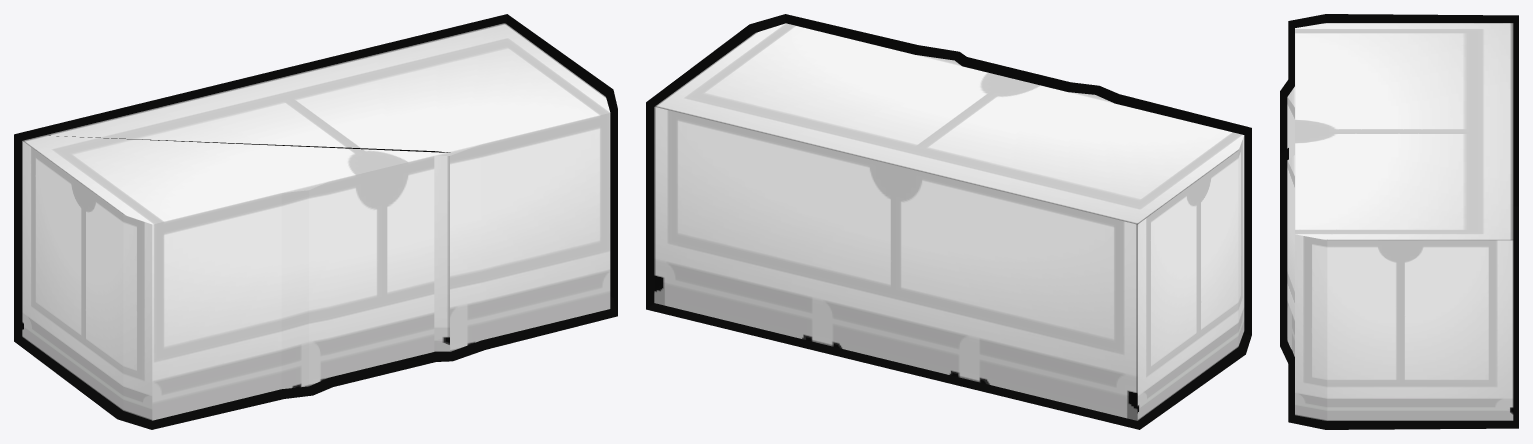
The model's file is Building_Altar_Large_Things_Building_Misc_Altars_Altar2x3.glb.
3 renders of one model, left to right at view 1: azimuth 30°, elevation 25°; view 2: azimuth 150°, elevation 25°; view 3: azimuth 270°, elevation 25°, orthographic. The views are drawn at different scales.
Visible parts, largest first — view 1: Body, Outline; view 2: Body, Outline; view 3: Body, Outline.
Boxes of the visible parts, x1,y1,x2,y2 form: Body: (22,23,610,420); Outline: (14,14,617,429); Body: (654,23,1244,420); Outline: (646,14,1251,429); Body: (1287,23,1513,420); Outline: (1280,14,1518,429).
Bounding box in the file's own units: 2.97 × 1.21 × 1.34.
Materials: 2 (1 with a texture image).
